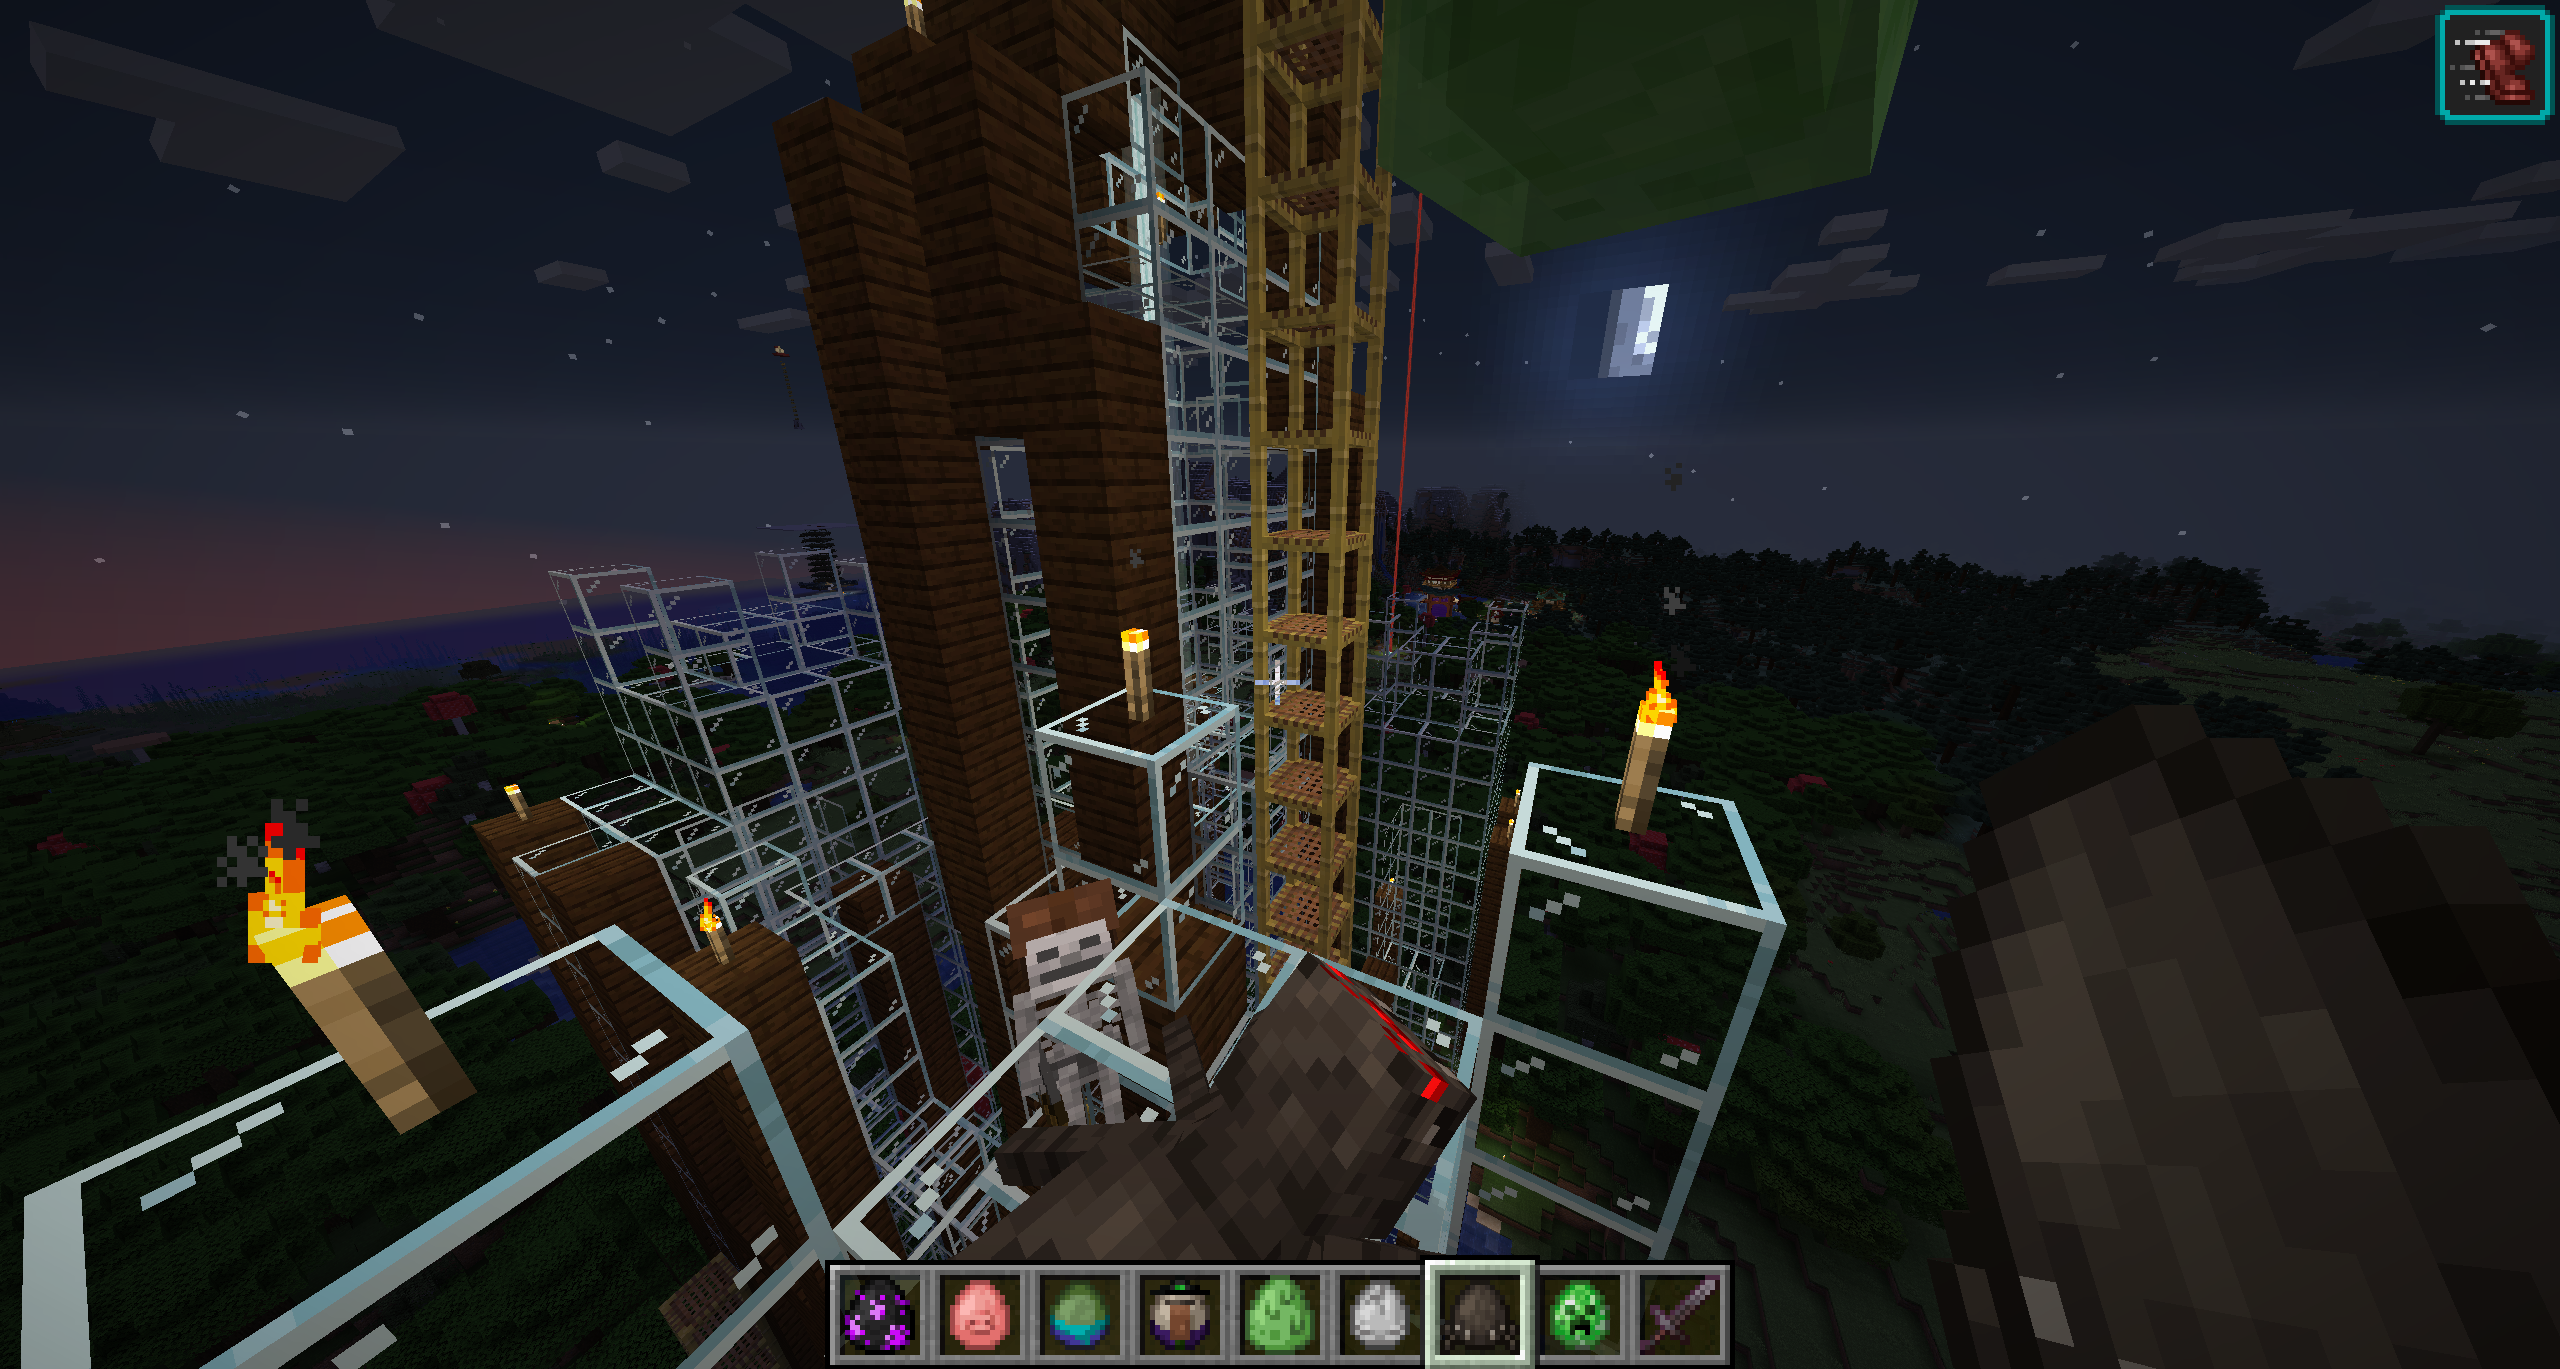araignees: (941, 963, 1497, 1281)
squelettes: (985, 897, 1160, 1125)
